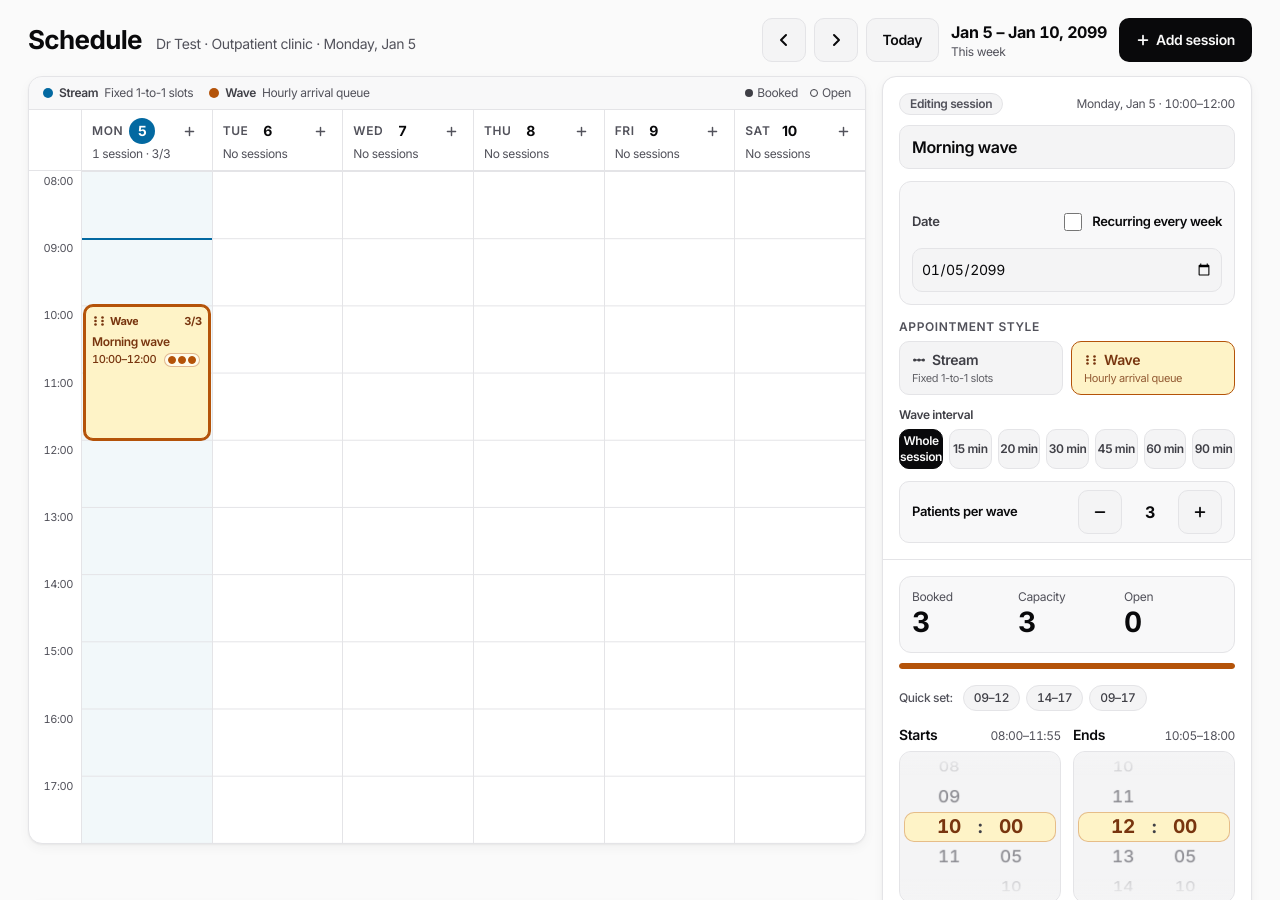
Test: Add session dates (regressions) › can move an existing one-off session to another date in Edit session
(page scrolled)
Clear the date field labelled "Date". click: {"x": 1067, "y": 270}
box: [912, 248, 1222, 292]
Type "2099-01-07" into the date field labelled "Date". click: {"x": 1067, "y": 270}
box: [912, 248, 1222, 292]
(page scrolled)
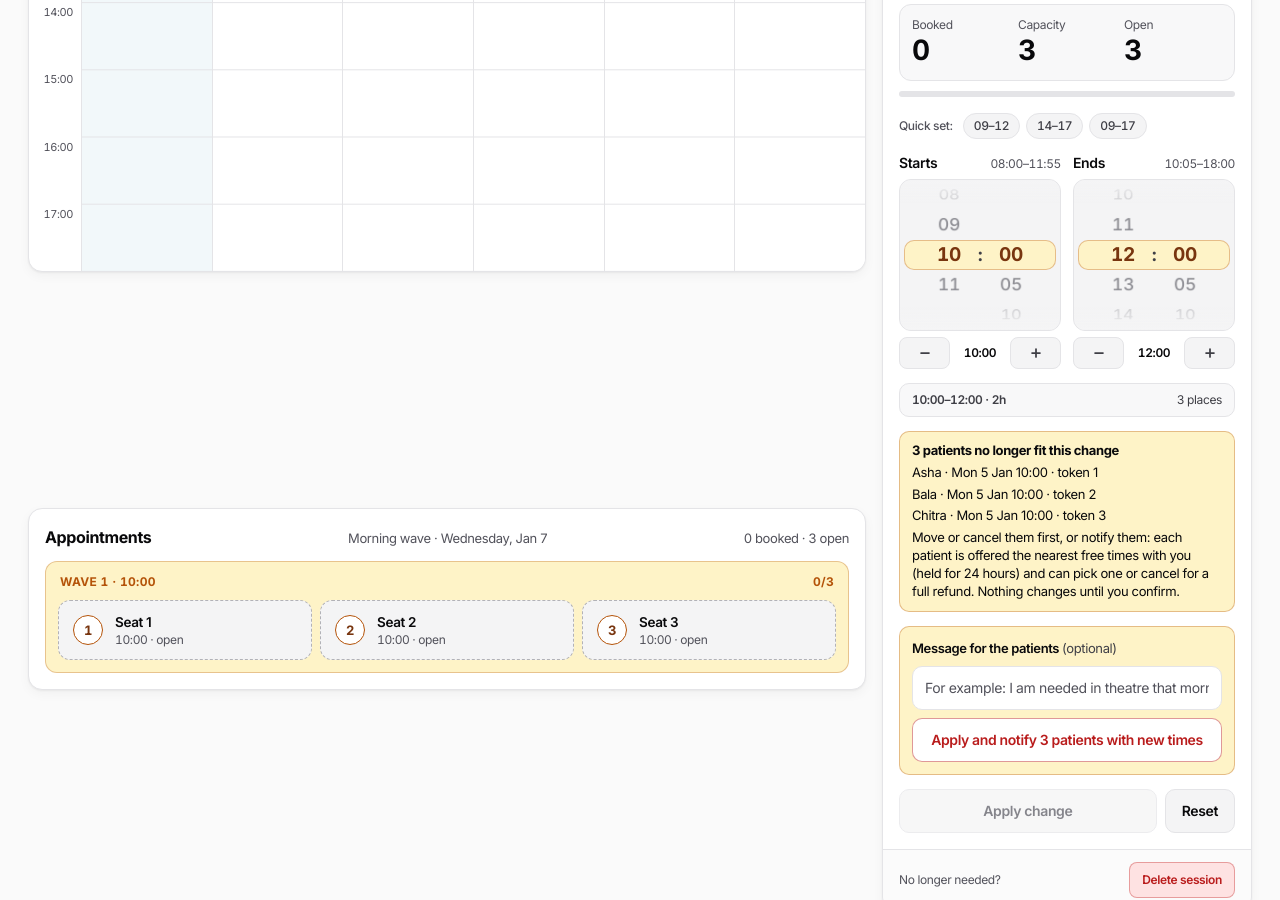
Result: the text "3 patients no longer fit this change" is shown at [912, 442, 1119, 458]
